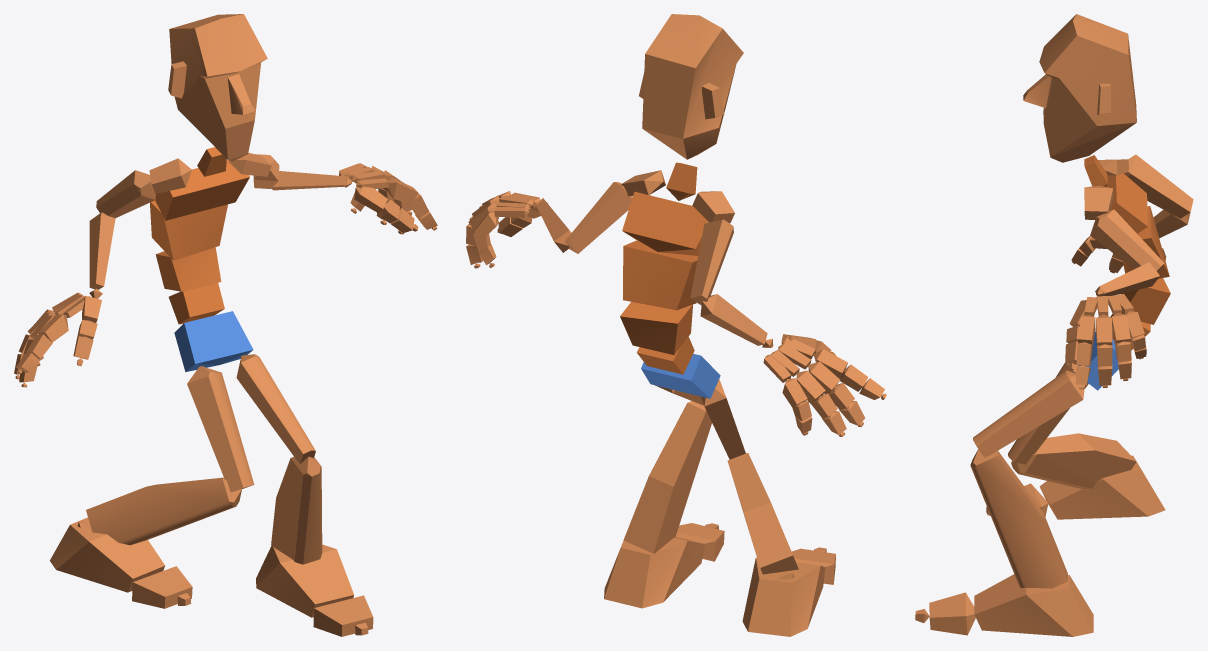
3 renders of one model, left to right at view 1: azimuth 30°, elevation 25°; view 2: azimuth 150°, elevation 25°; view 3: azimuth 270°, elevation 25°, orthographic. The views are drawn at different scales.
Parts seen in each view (by area): view 1: BOPED_Head, BOPED_R_leg, BOPED_R_foot, BOPED_L_leg, BOPED_R_foot01, BOPED_R_legup, Bone01, BOPED_L_legup, Bone04, Bone05, Bone03, BOPED_R_foot_toe04 (+8 smaller); view 2: BOPED_Head, BOPED_L_leg, BOPED_R_foot01, BOPED_R_foot, Bone04, Bone05, BOPED_R_leg, Bone03, BOPED_R_arm_upper, BOPED_L_arm_upper, Bone01, BOPED_R_arm_fore (+8 smaller); view 3: BOPED_Head, BOPED_L_leg, BOPED_R_foot01, BOPED_R_leg, BOPED_R_foot, BOPED_L_legup, BOPED_L_arm_upper, BOPED_R_arm_upper, Bone05, BOPED_R_foot_toe04, BOPED_R_legup, Bone03 (+10 smaller).
Boxes of the visible parts, box(x1,y1,x2,y2) form: BOPED_Head: box(168, 14, 267, 161); BOPED_R_leg: box(86, 477, 241, 545); BOPED_R_foot: box(50, 517, 165, 592); BOPED_L_leg: box(271, 456, 322, 564); BOPED_R_foot01: box(256, 544, 353, 617); BOPED_R_legup: box(187, 366, 254, 492); Bone01: box(174, 311, 253, 372); BOPED_L_legup: box(236, 354, 315, 464); Bone04: box(150, 200, 227, 260); Bone05: box(155, 160, 249, 220); Bone03: box(155, 247, 221, 291); BOPED_R_foot_toe04: box(313, 595, 373, 636); BOPED_Head: box(639, 14, 743, 159); BOPED_L_leg: box(623, 401, 711, 553); BOPED_R_foot01: box(604, 537, 705, 608); BOPED_R_foot: box(742, 557, 825, 636); Bone04: box(623, 240, 698, 310); Bone05: box(622, 191, 708, 255); BOPED_R_leg: box(727, 453, 798, 574); Bone03: box(620, 302, 692, 354); BOPED_R_arm_upper: box(690, 219, 733, 305); BOPED_L_arm_upper: box(565, 182, 632, 253); Bone01: box(641, 354, 720, 398); BOPED_R_arm_fore: box(700, 294, 767, 345); BOPED_Head: box(1023, 14, 1136, 162); BOPED_L_leg: box(970, 449, 1067, 588); BOPED_R_foot01: box(974, 574, 1093, 636); BOPED_R_leg: box(1011, 433, 1136, 488); BOPED_R_foot: box(1039, 455, 1165, 519); BOPED_L_legup: box(973, 370, 1084, 457); BOPED_L_arm_upper: box(1090, 209, 1164, 272); BOPED_R_arm_upper: box(1124, 154, 1193, 218); Bone05: box(1106, 173, 1147, 233); BOPED_R_foot_toe04: box(929, 592, 975, 635); BOPED_R_legup: box(1008, 363, 1088, 464); Bone03: box(1121, 278, 1170, 324).
Bounding box in the file's own units: 130 × 175 × 76.98.
